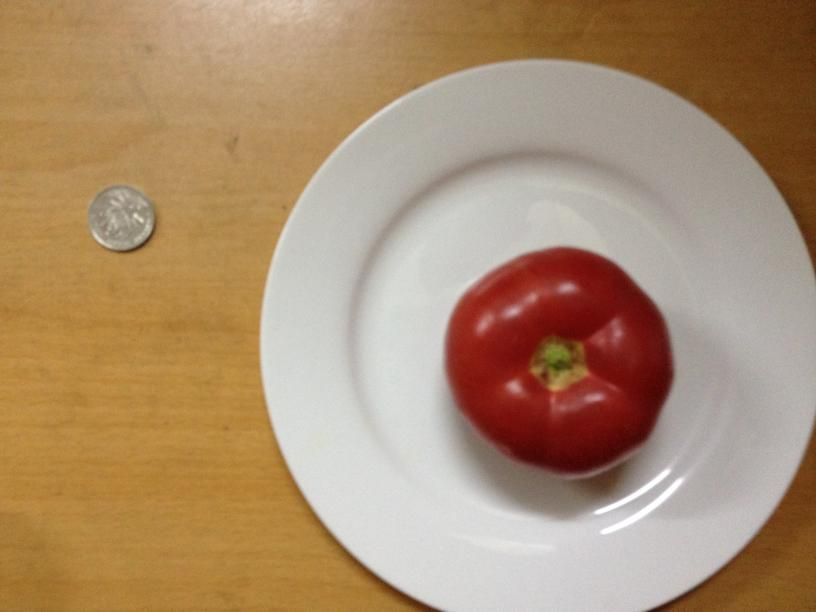coin: (84, 183, 155, 252)
tomato: (437, 250, 679, 475)
